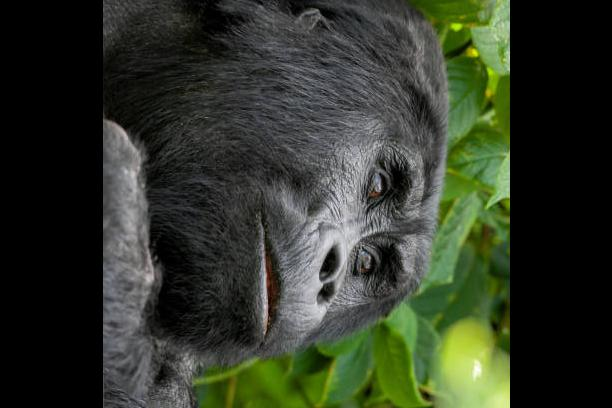goriile_montagne: (102, 0, 468, 408)
